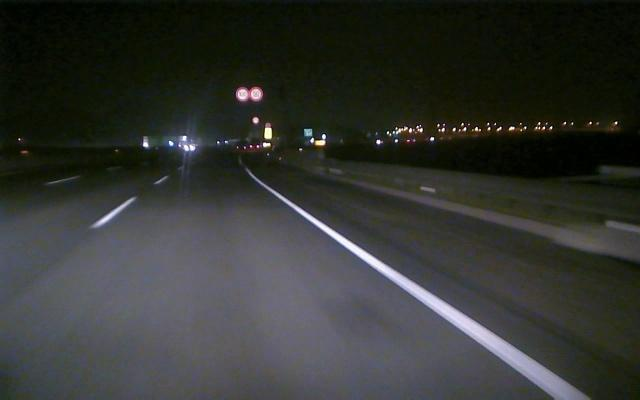lane: (257, 181, 590, 397), (91, 175, 169, 228)
